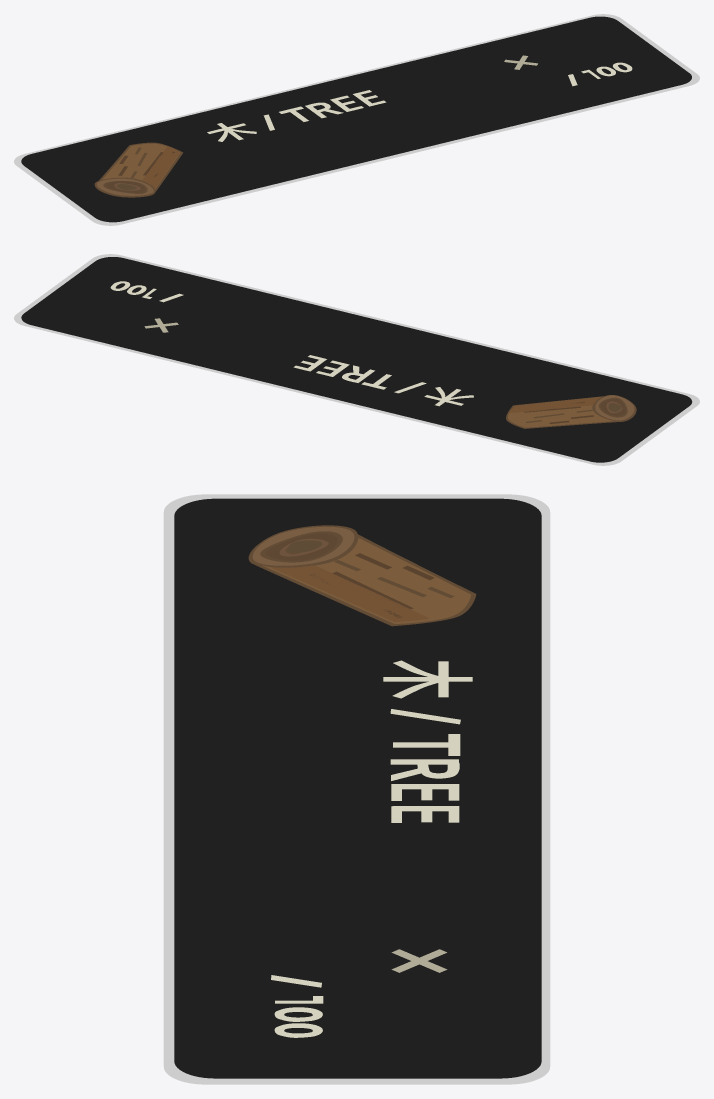
File: TREEEE.fbx
The picture shows the model from 3 angles, top to bottom: view 1: azimuth 30°, elevation 25°; view 2: azimuth 150°, elevation 25°; view 3: azimuth 270°, elevation 25°; orthographic projection. The views are drawn at different scales.
Parts seen in each view (by area): view 1: Curve.001, Curve, Curve.031, Curve.032, Curve.030, Curve.034; view 2: Curve.001, Curve, Curve.031, Curve.032, Curve.030, Curve.034; view 3: Curve.001, Curve, Curve.031, Curve.032, Curve.034, Curve.030.
Part boxes in pixels (x1,y1,x2,y2): Curve.001: (21, 16, 691, 222); Curve: (14, 14, 699, 225); Curve.031: (102, 143, 180, 188); Curve.032: (142, 146, 179, 187); Curve.030: (95, 142, 183, 197); Curve.034: (97, 178, 153, 195); Curve.001: (21, 257, 692, 462); Curve: (14, 254, 699, 465); Curve.031: (508, 405, 613, 427); Curve.032: (509, 396, 601, 412); Curve.030: (506, 396, 636, 428); Curve.034: (595, 395, 634, 420); Curve.001: (174, 498, 541, 1078); Curve: (163, 494, 550, 1084); Curve.031: (262, 538, 470, 623); Curve.032: (271, 565, 429, 621); Curve.034: (252, 526, 354, 565); Curve.030: (248, 534, 476, 626).
Bounding box in the file's own units: 15.94 × 0.057 × 4.41.
